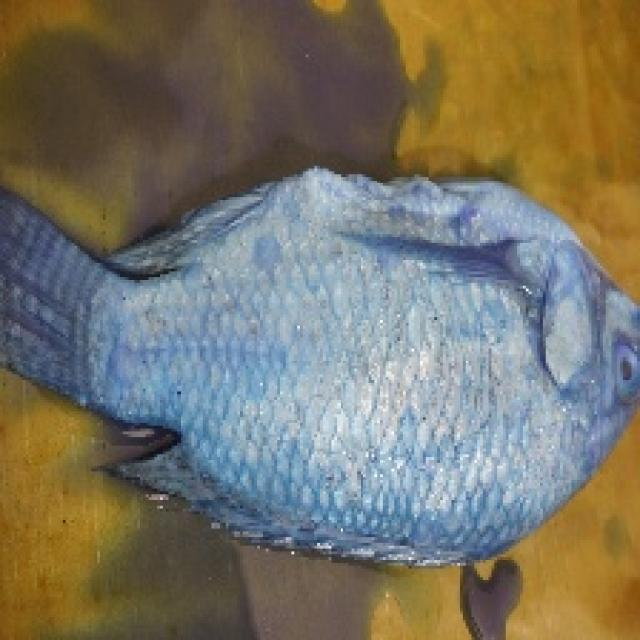Non-Fresh: (43, 143, 640, 557)
